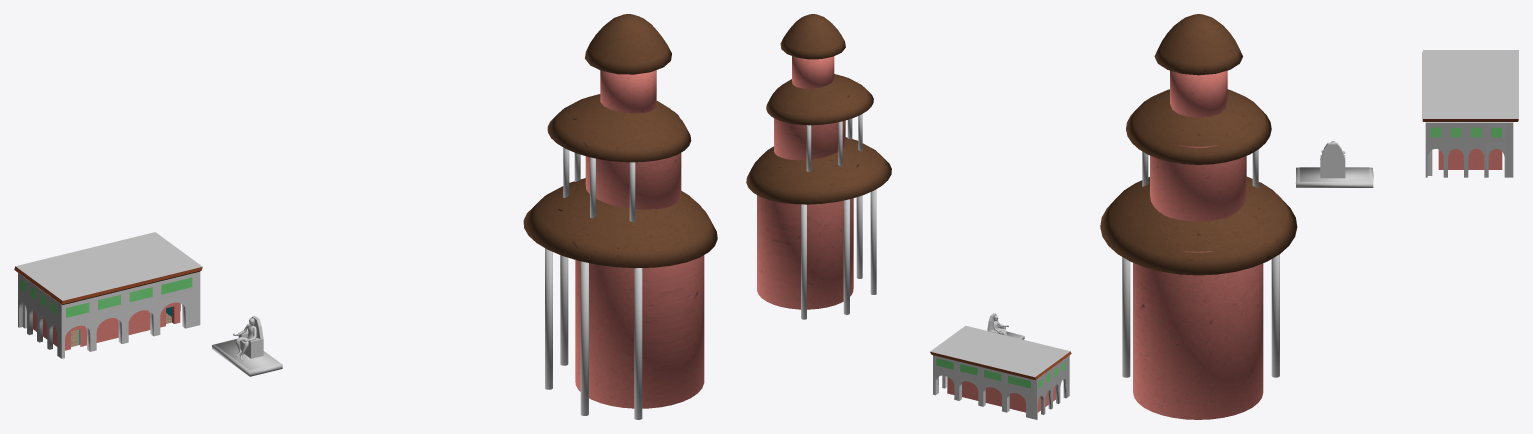
Rendered from KiricoMap3.obj.
3 views of the same model, side by side, from view 1: azimuth 30°, elevation 25°; view 2: azimuth 150°, elevation 25°; view 3: azimuth 270°, elevation 25° (orthographic). The views are drawn at different scales.
Visible parts, largest first — view 1: ConstructionBase.001_Cylinder.001, BuildingRoof.001_Cube.015, Arco.001_Cube.016, statue.new.3_Cube.017, BuildingExt.001_Cube.019; view 2: ConstructionBase.001_Cylinder.001, BuildingRoof.001_Cube.015, Arco.001_Cube.016, BuildingExt.001_Cube.019, statue.new.3_Cube.017; view 3: ConstructionBase.001_Cylinder.001, BuildingRoof.001_Cube.015, Arco.001_Cube.016, statue.new.3_Cube.017, BuildingExt.001_Cube.019.
Boxes of the visible parts, bbox=[...] form: ConstructionBase.001_Cylinder.001: bbox=[523, 14, 717, 419]; BuildingRoof.001_Cube.015: bbox=[14, 232, 202, 304]; Arco.001_Cube.016: bbox=[18, 271, 200, 358]; statue.new.3_Cube.017: bbox=[212, 316, 282, 376]; BuildingExt.001_Cube.019: bbox=[33, 302, 180, 350]; ConstructionBase.001_Cylinder.001: bbox=[746, 14, 891, 319]; BuildingRoof.001_Cube.015: bbox=[930, 325, 1071, 379]; Arco.001_Cube.016: bbox=[933, 355, 1069, 419]; BuildingExt.001_Cube.019: bbox=[947, 377, 1055, 412]; statue.new.3_Cube.017: bbox=[987, 313, 1024, 339]; ConstructionBase.001_Cylinder.001: bbox=[1100, 14, 1297, 419]; BuildingRoof.001_Cube.015: bbox=[1422, 50, 1518, 121]; Arco.001_Cube.016: bbox=[1425, 122, 1513, 177]; statue.new.3_Cube.017: bbox=[1295, 141, 1373, 187]; BuildingExt.001_Cube.019: bbox=[1438, 148, 1502, 169].
Bounding box in the file's own units: 61.4 × 40.75 × 41.5.
Materials: 11 (7 with a texture image).
